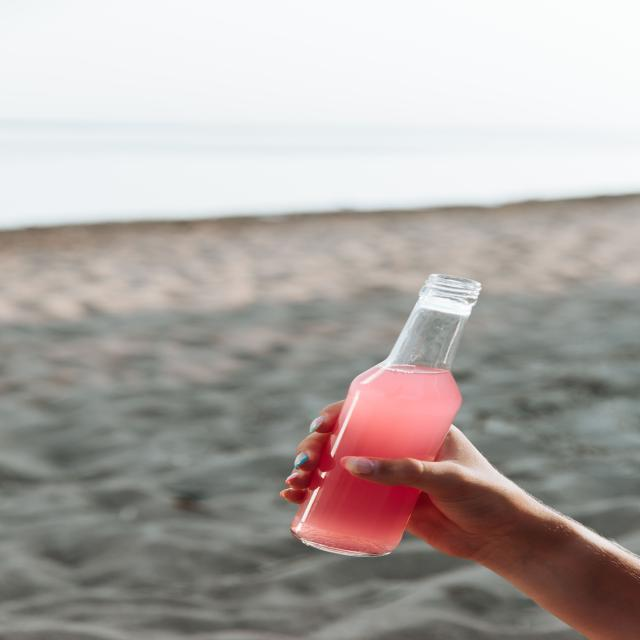Bottle: (292, 275, 480, 556)
